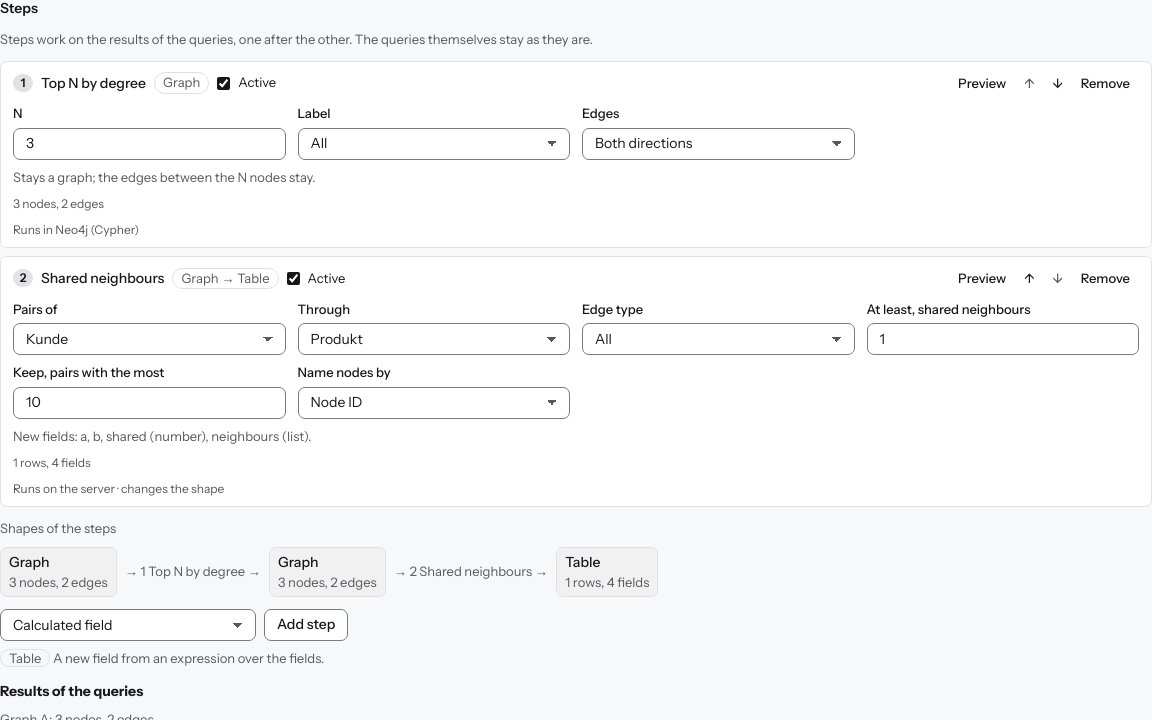
Test case: graph steps in the steps editor › edits shared neighbours from the graph's labels and runs a later step on the server
Expected: the text "Runs on the server · changes the shape" is shown, [13,481,224,496]
Expected: the text "Runs in Neo4j (Cypher)" is shown, [13,222,139,237]
Select "name" in the dropdown labelled "Name nodes by" at (434, 402), box [298,386,570,418]
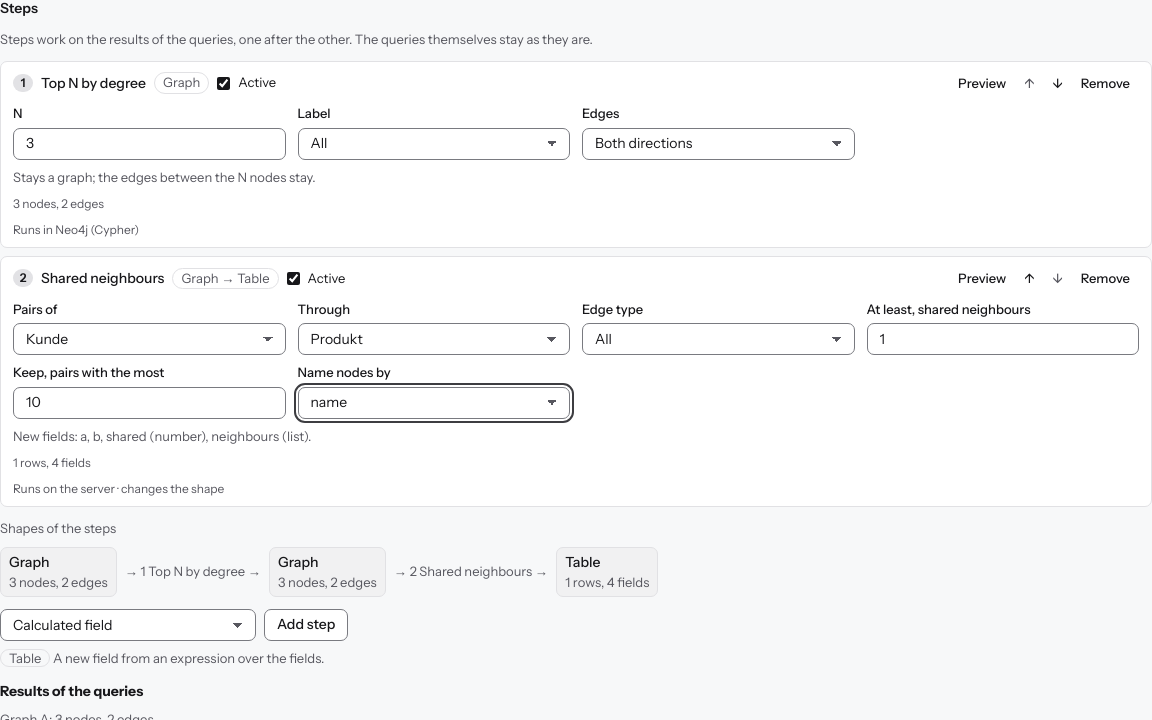
Select "KAUFTE" in the dropdown labelled "Edge type" at (718, 339), box [582,323,854,355]
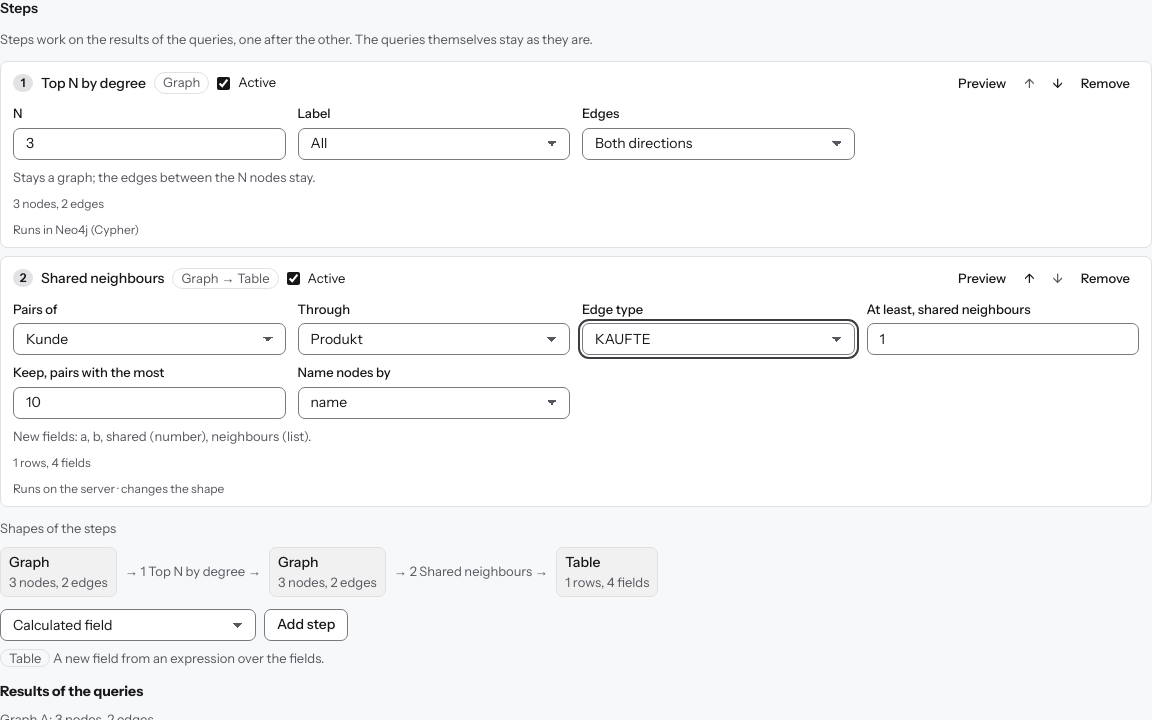
Select "All" in the dropdown labelled "Edge type" at (718, 339), box [582,323,854,355]
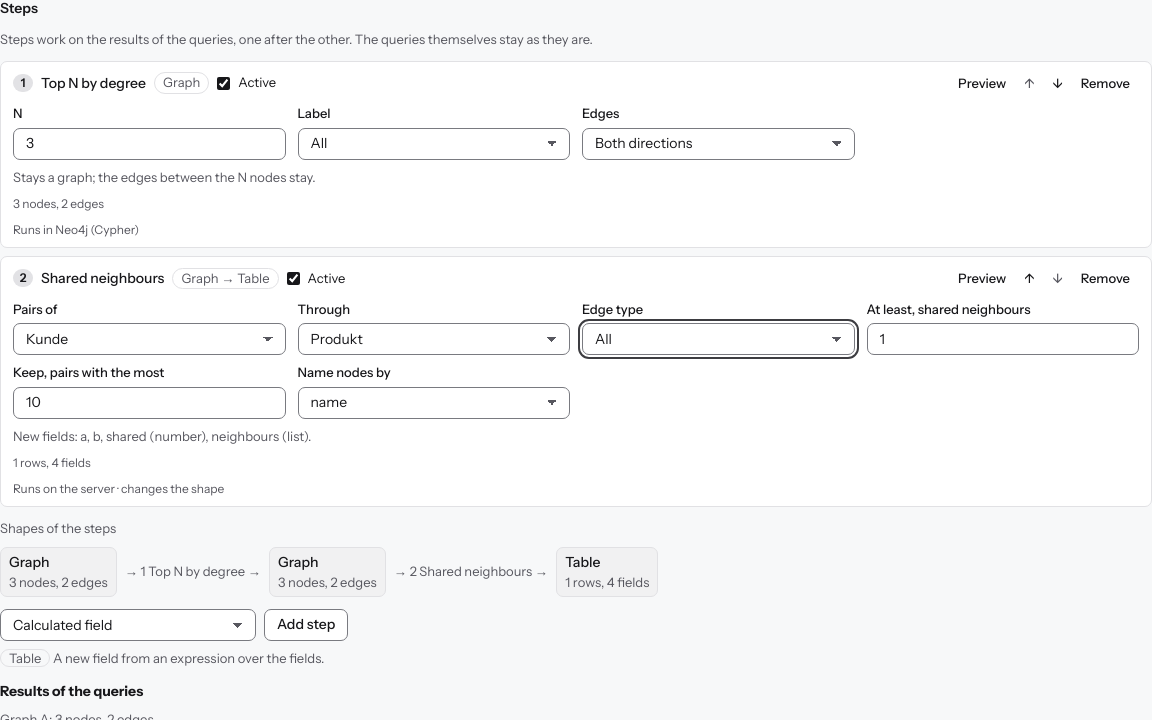
Click the button with aria-label "Preview after step 2" at (982, 278), box [949,265,1015,292]
(page scrolled)
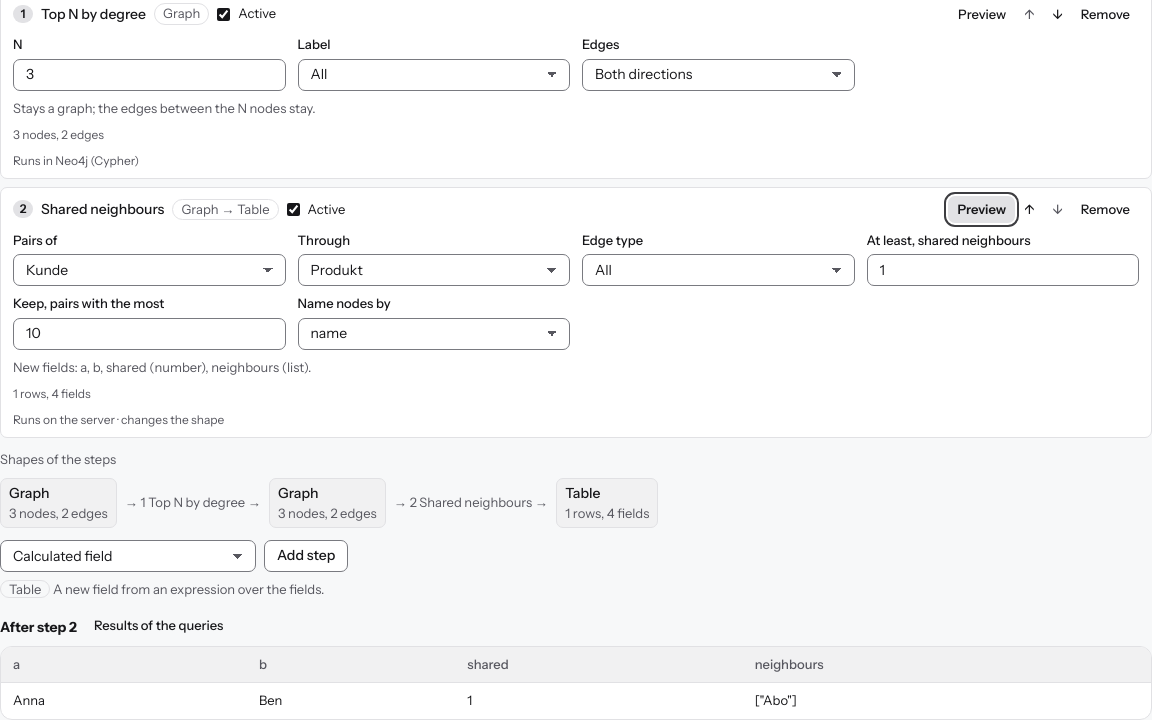
Now the cell "Anna" is shown, box [1,683,247,719]
